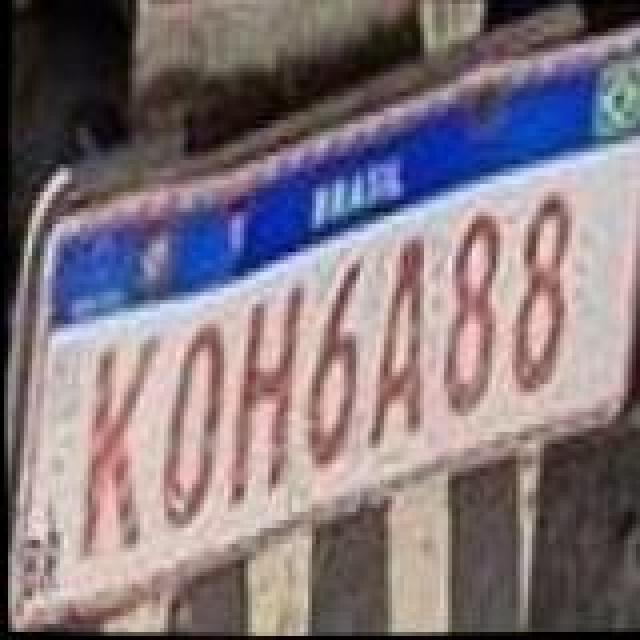6: (296, 256, 364, 472)
8: (430, 206, 506, 418), (504, 186, 576, 394)
A: (360, 234, 432, 450)
H: (222, 280, 310, 508)
K: (68, 328, 160, 556)
O: (154, 316, 230, 528)
